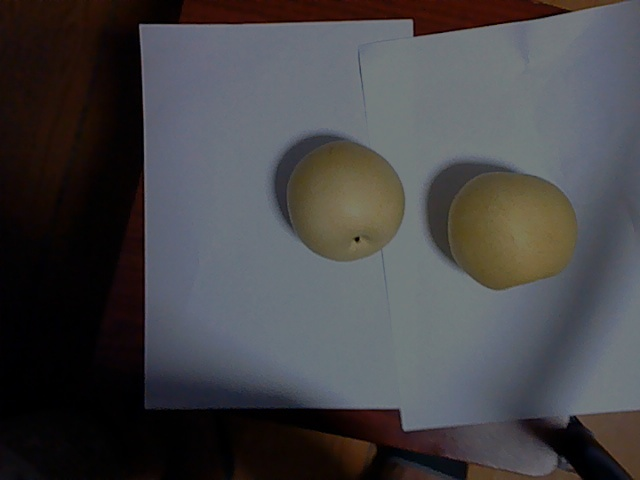pear: (448, 169, 580, 290), (291, 143, 408, 262)
